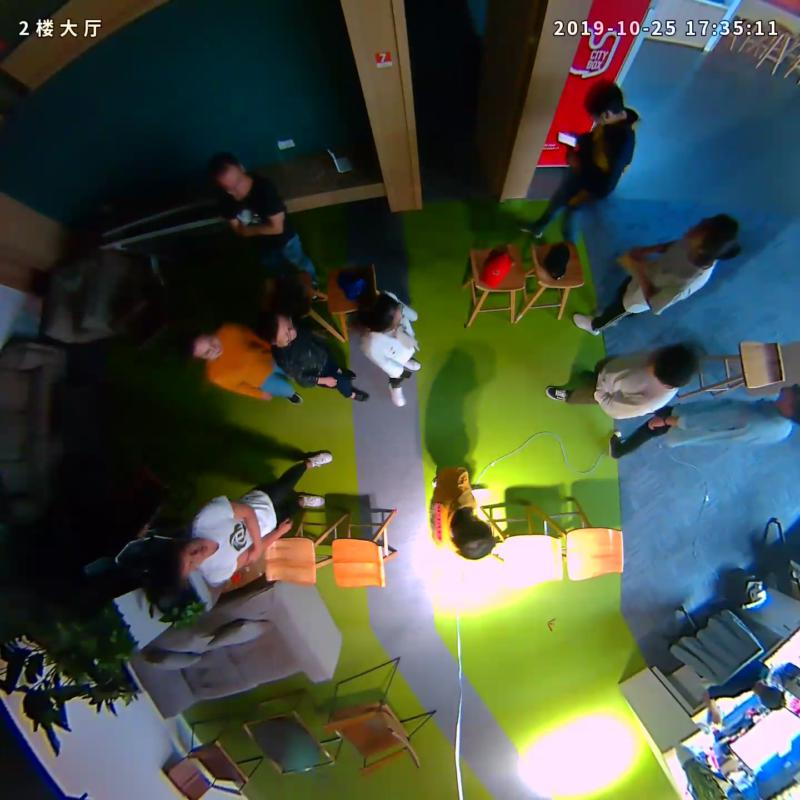head: (140, 537, 209, 580), (683, 212, 740, 263), (646, 344, 697, 389), (357, 292, 406, 335), (584, 78, 624, 127), (211, 154, 249, 201), (453, 516, 493, 560), (178, 325, 223, 362)
